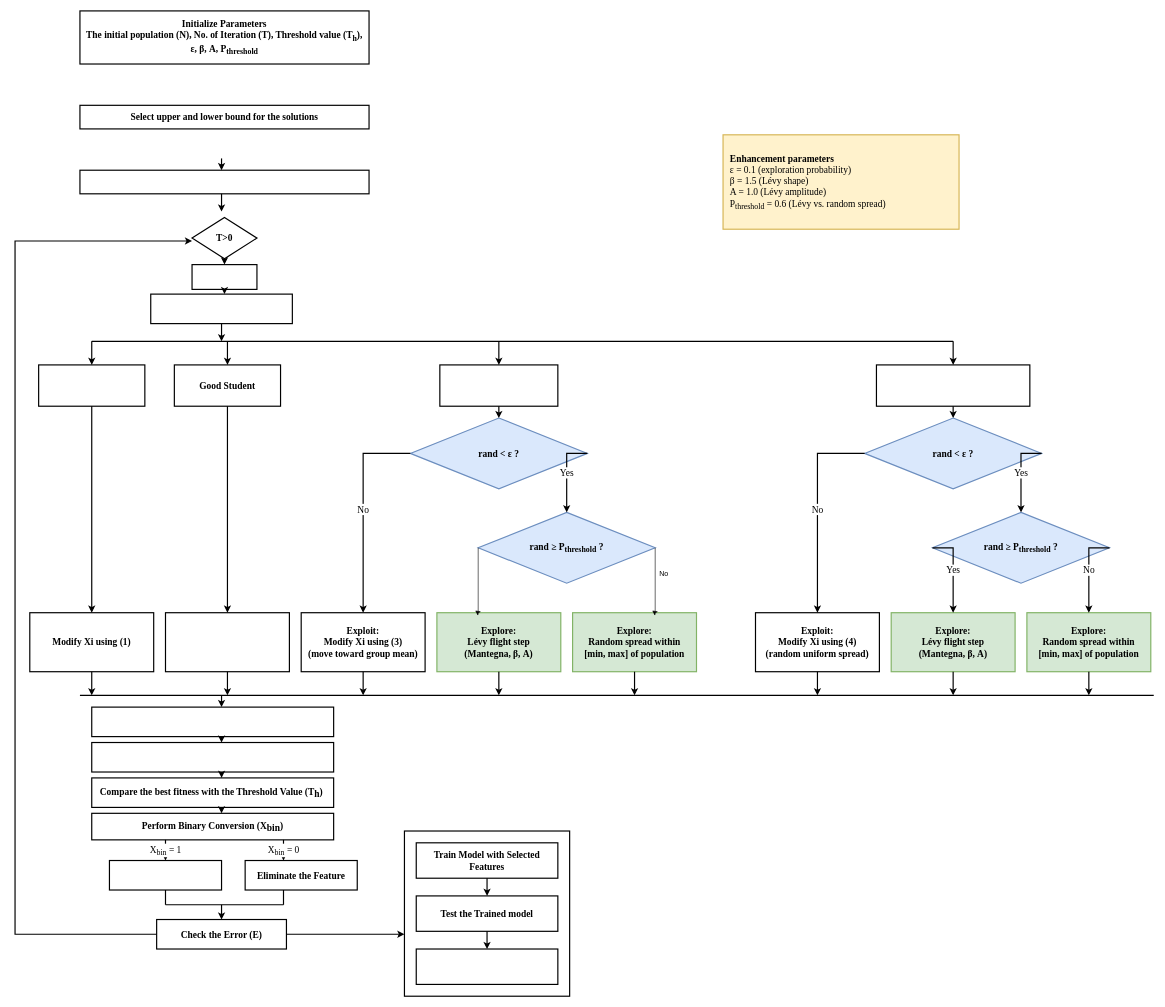
Image size: 1165x1007. Some labels were removed from this diagram. Here are the shapes that lost their labels. From the top down, the box of each, then its label:
(79, 169, 369, 194): Initialize the initial performence of the students randomly
(191, 264, 257, 290): T-1
(150, 293, 293, 324): Check Catagory of the Students
(38, 364, 145, 407): Best Student
(439, 364, 558, 407): Average Student
(876, 364, 1030, 407): Students who try to improve randomly
(165, 612, 290, 672): Modify Xi using (2a or 2b)
(91, 706, 334, 737): Evalute the Performence using (Xi) Benchmark Function
(91, 742, 334, 772): Update the best Performence for every Students
(109, 860, 222, 890): Select the Feature
(415, 948, 558, 985): Evaluate the model
